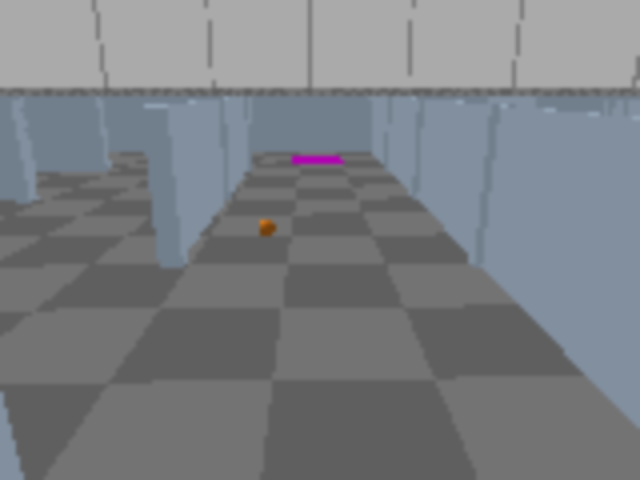goal_zone: (293, 156, 343, 164)
puck: (255, 217, 278, 239)
